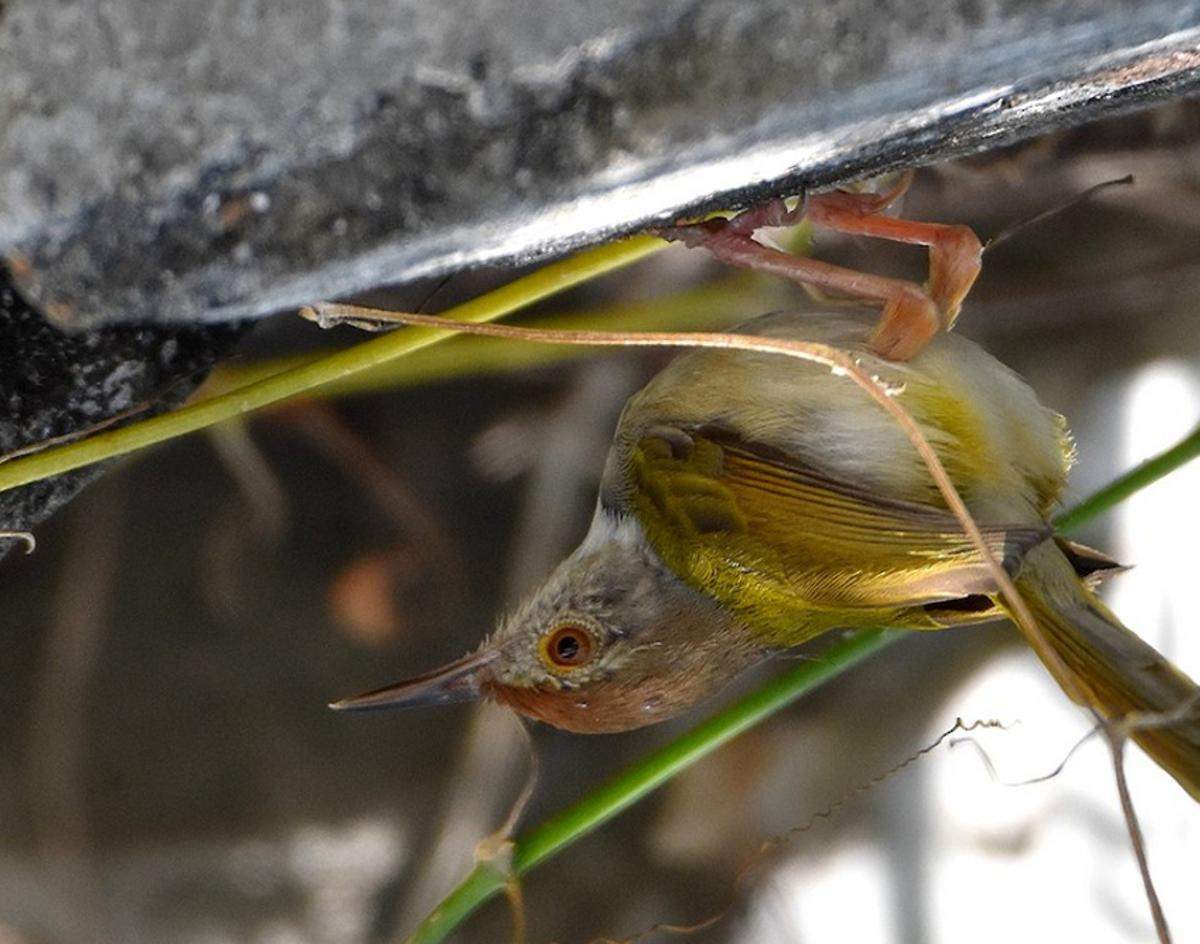tailorbird: (296, 201, 1097, 776)
